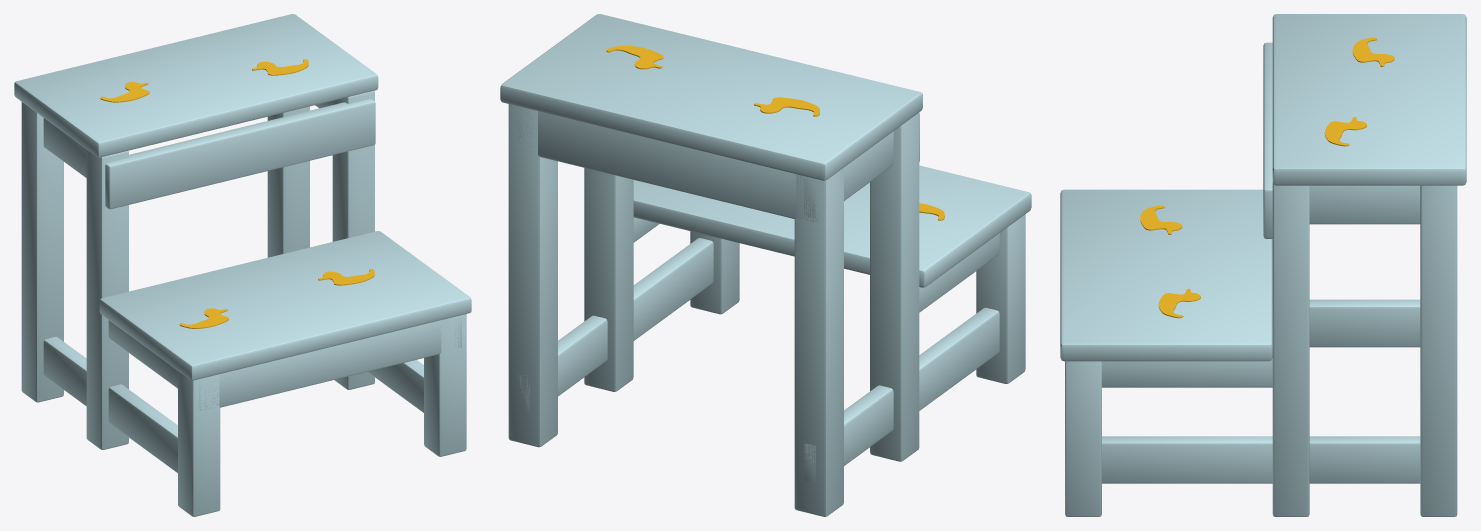
The model's file is step-stools.glb.
The picture shows the model from 3 angles, left to right: view 1: azimuth 30°, elevation 25°; view 2: azimuth 150°, elevation 25°; view 3: azimuth 270°, elevation 25°; orthographic projection. The views are drawn at different scales.
Visible parts, largest first — view 1: Step stool; view 2: Step stool; view 3: Step stool.
Boxes of the visible parts, bbox=[...] form: Step stool: bbox=[14, 14, 471, 516]; Step stool: bbox=[500, 14, 1031, 516]; Step stool: bbox=[1060, 14, 1466, 516].
Bounding box in the file's own units: 0.4 × 0.4212 × 0.44.
